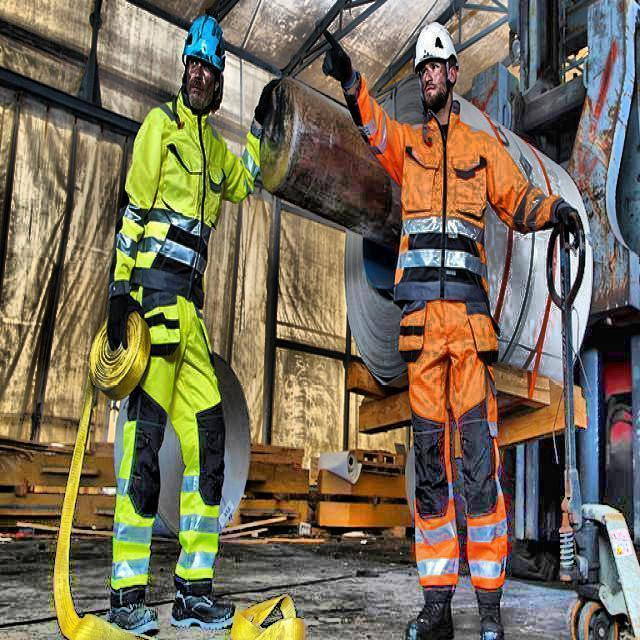safety_helmet: (183, 14, 230, 75), (412, 24, 463, 66)
safety_jacket: (344, 76, 558, 306), (107, 92, 264, 305)
